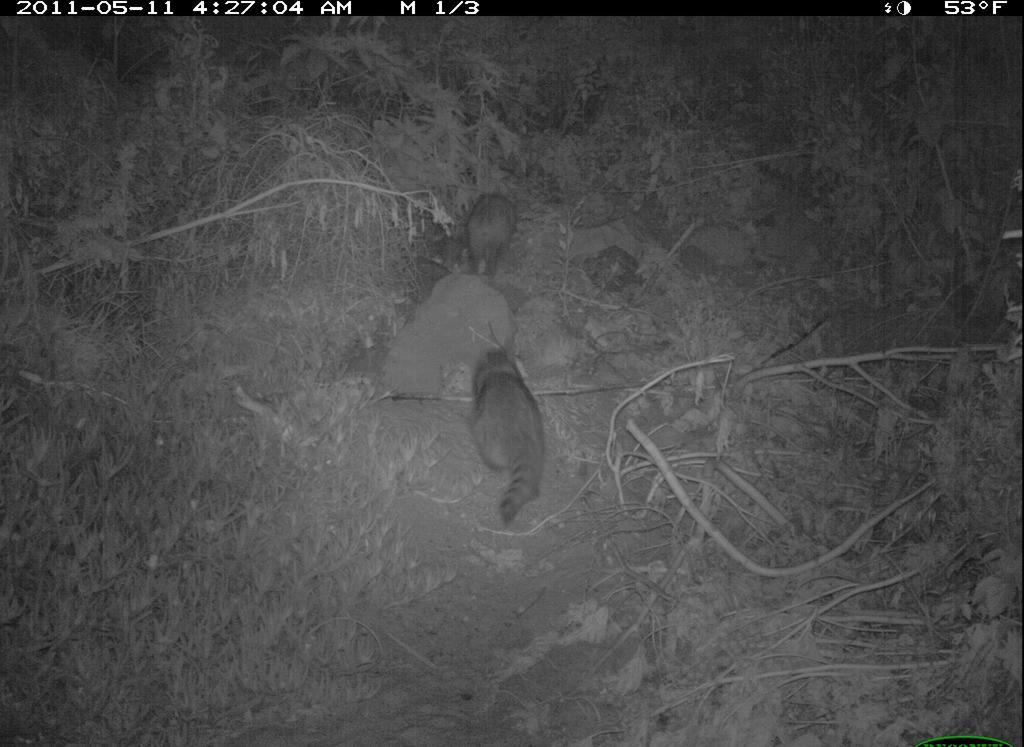raccoon: (460, 340, 555, 527), (463, 186, 528, 281)
